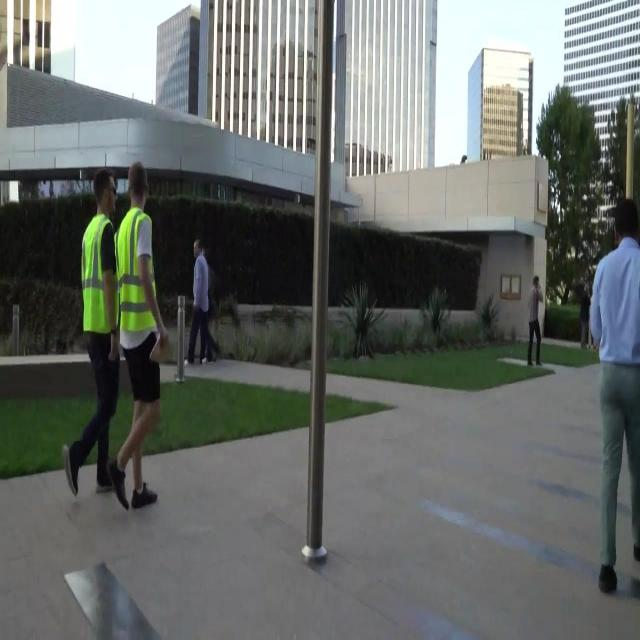Reflective-Jacket: (111, 205, 165, 359), (74, 210, 122, 354)
